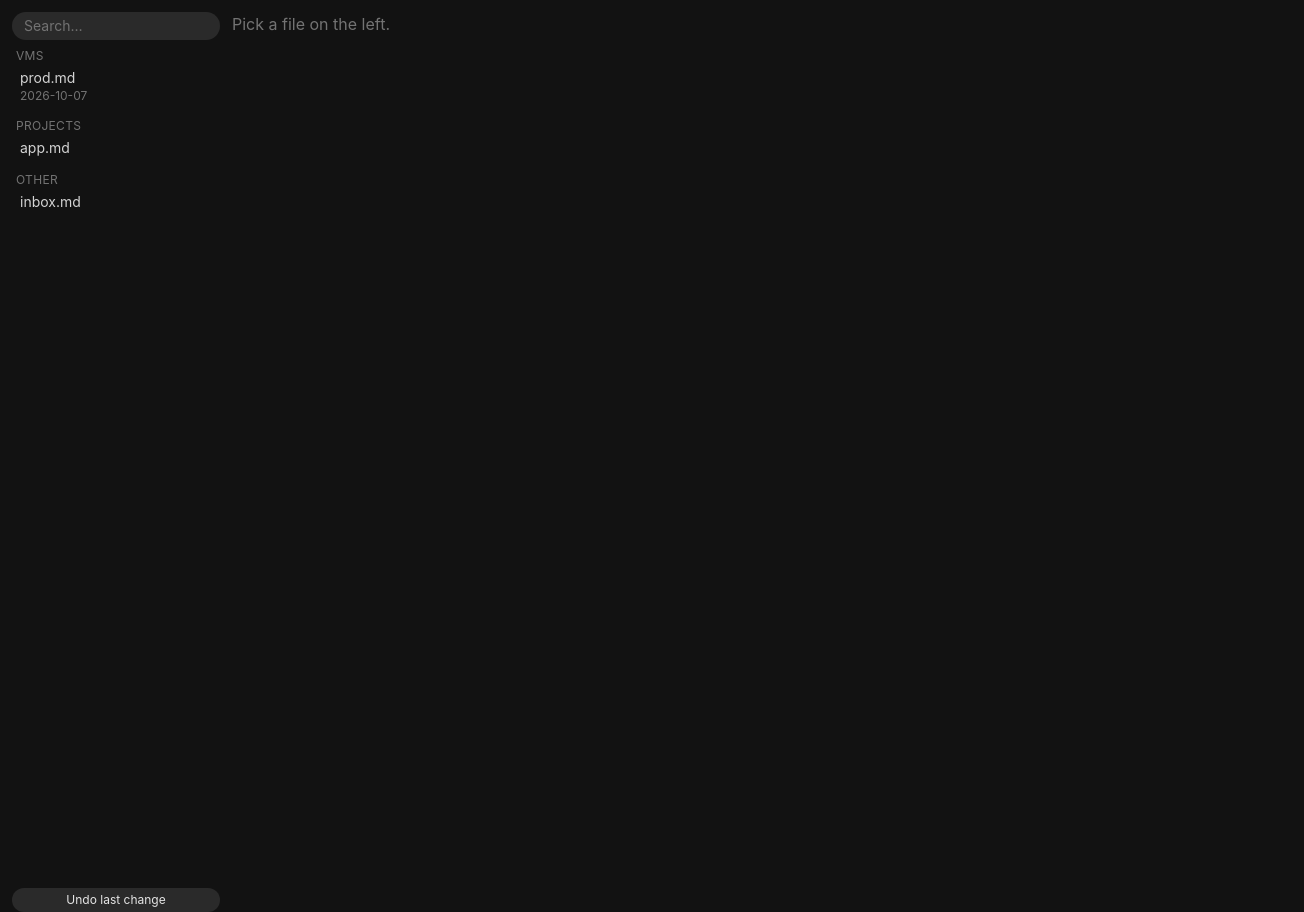
Test: Browse › shows redacted findings and keeps the draft when the save is blocked
The width and height of the screenshot is (1304, 912).
Click the button "prod.md 2026-10-07".
click(114, 86)  # box [12,64,216,108]
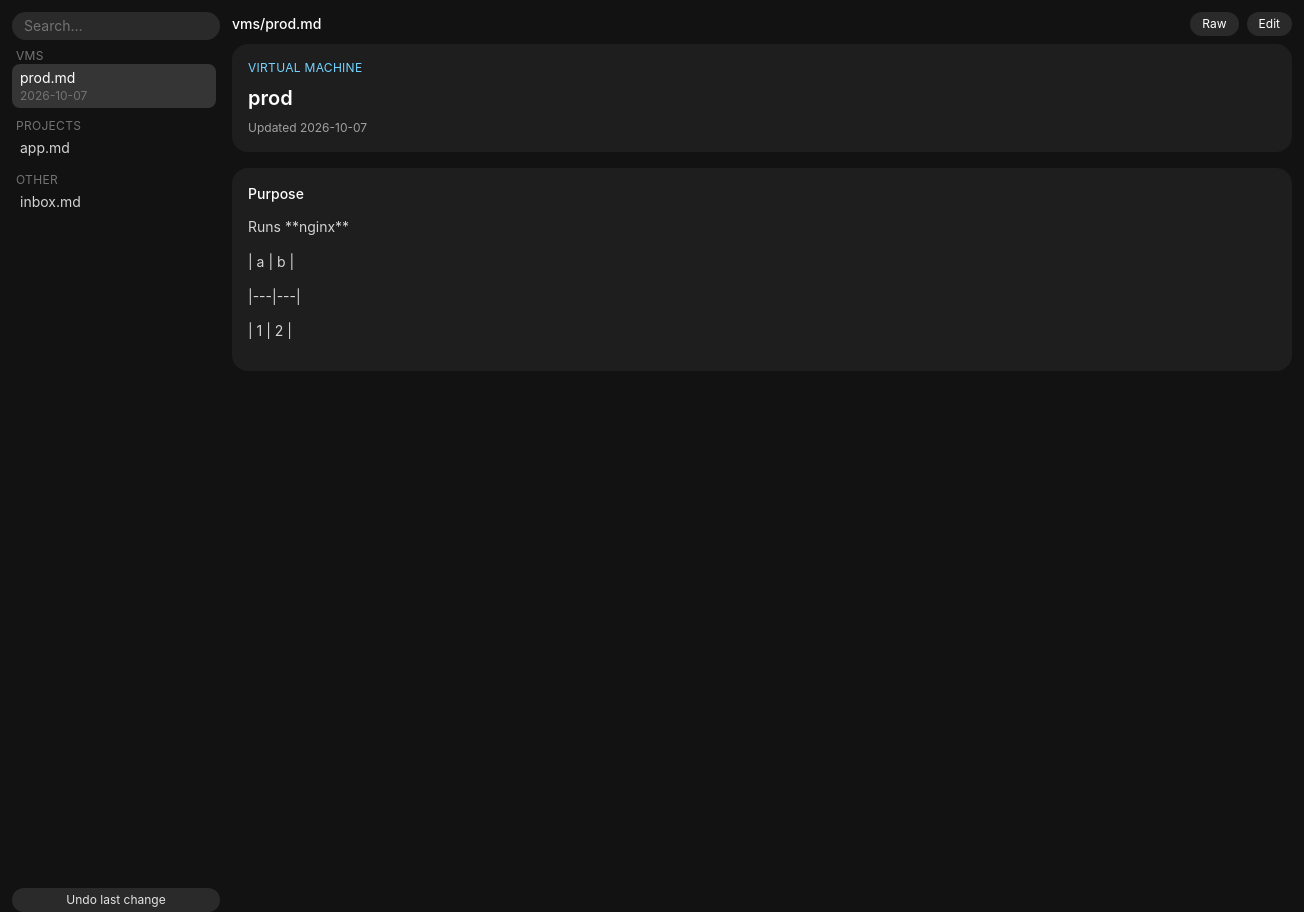
Click the button "Edit".
click(1269, 24)  # box [1247,12,1292,36]
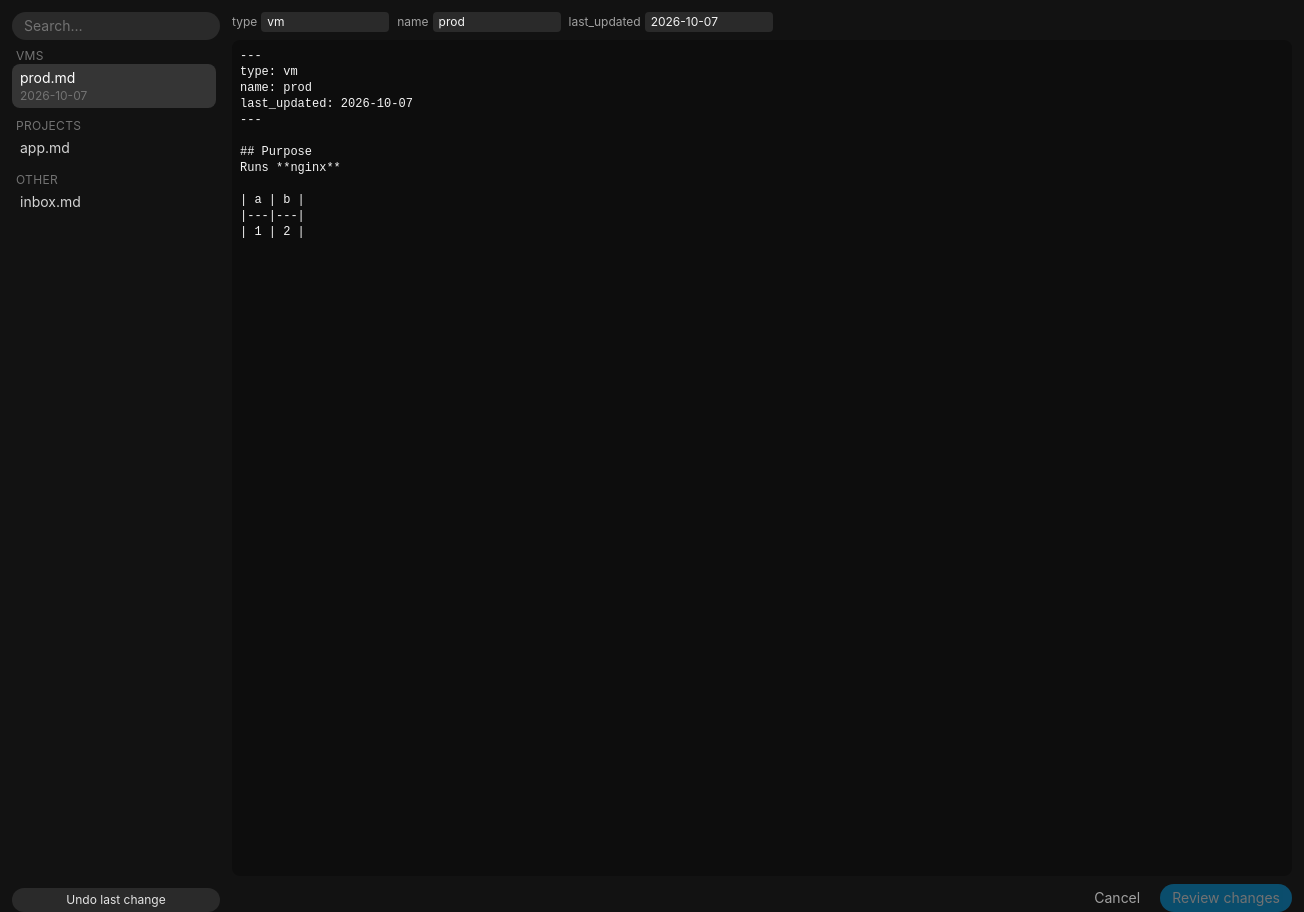
Replace the text in the text box named "Markdown source" with "DB_PASSWORD=SuperSecret123!" at (762, 458), box [232,40,1292,876]
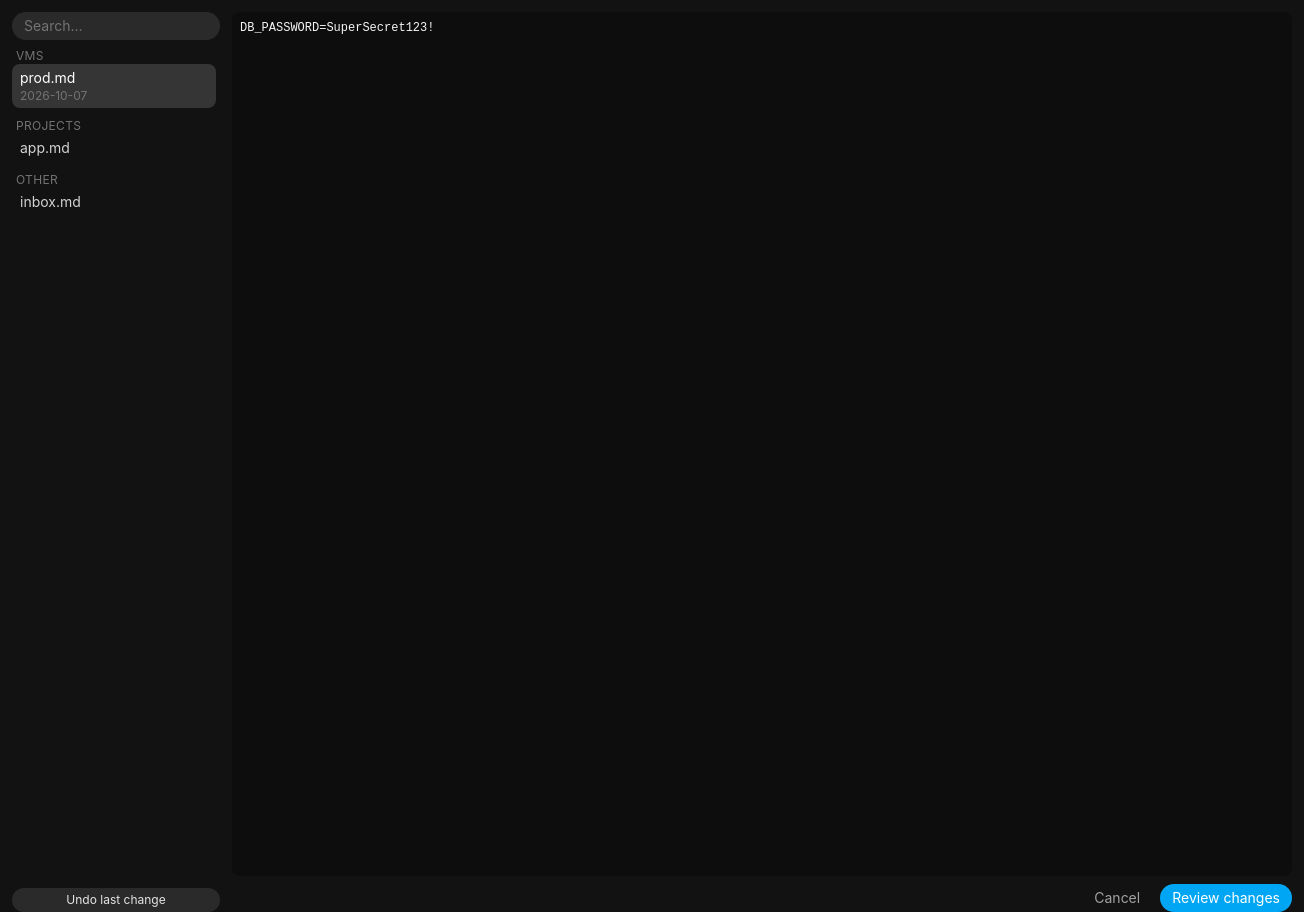
Click the button "Review changes".
click(1226, 898)  # box [1160,884,1292,911]
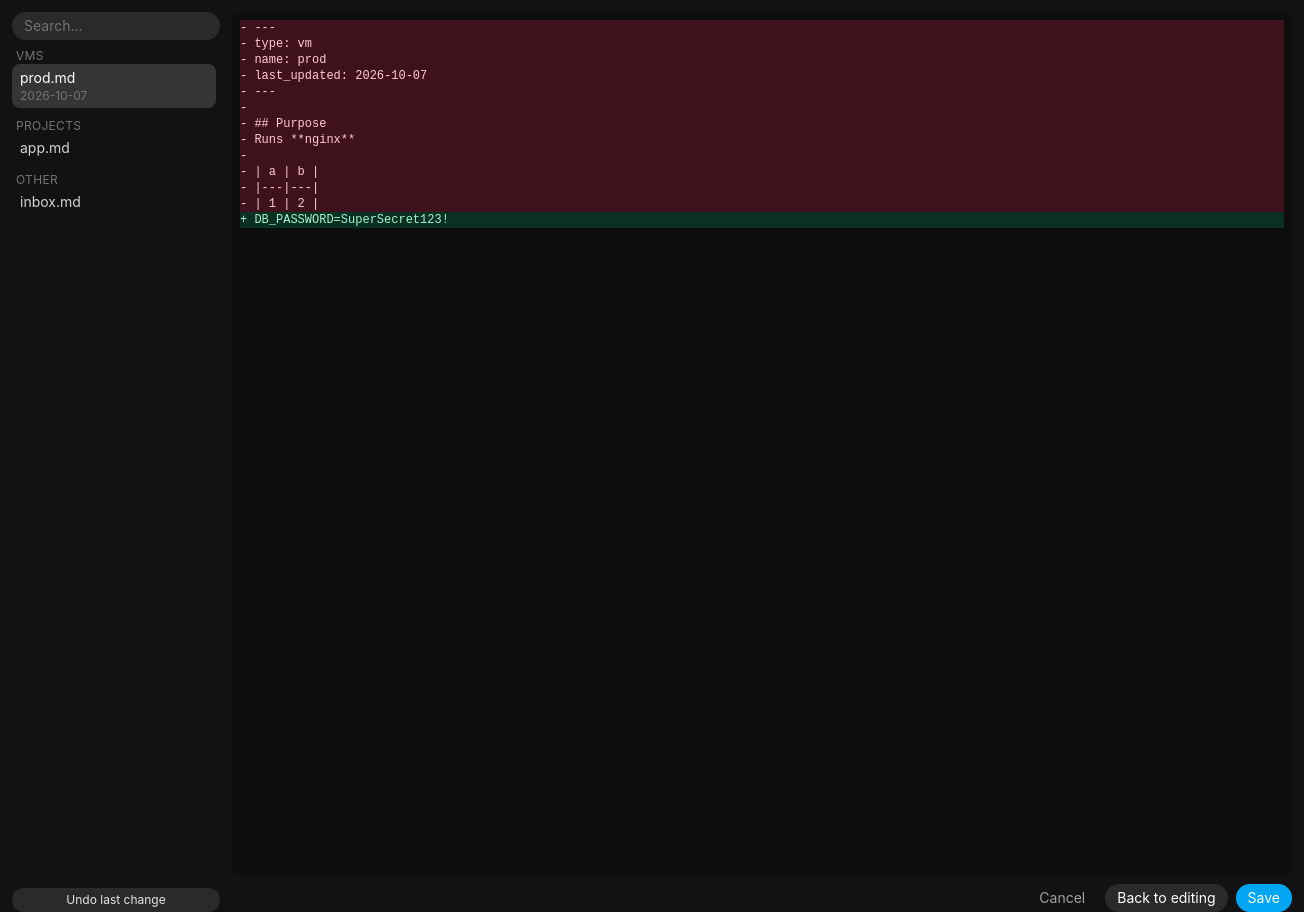
Click the button "Save".
click(1264, 898)  # box [1236,884,1292,911]
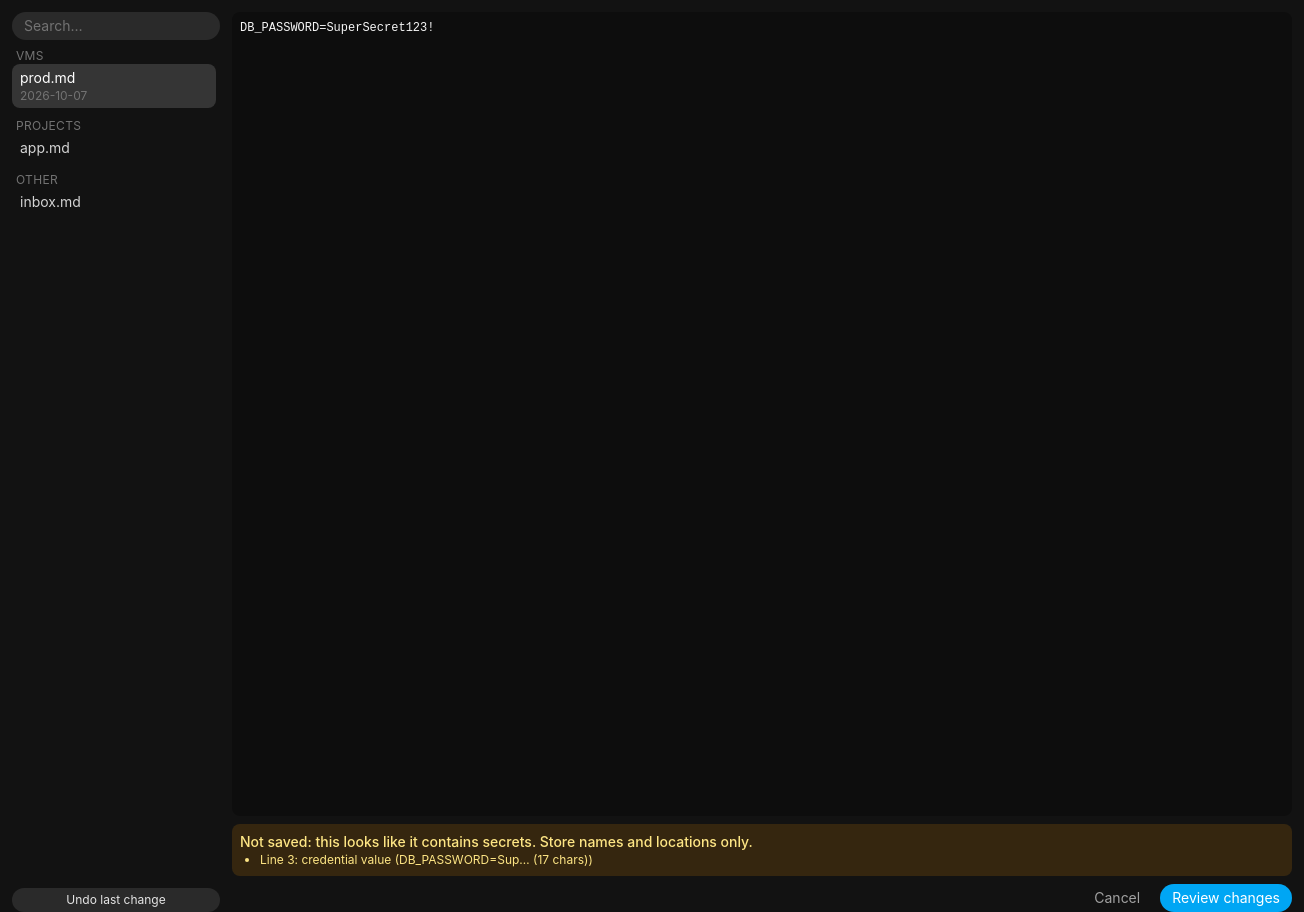
Now the message shows "contains secrets", box [240,833,753,850]
Now the message shows "Line 3: credential value", box [260,852,593,867]
Now the message no longer shows "SuperSecret123!", box [232,824,1292,876]
